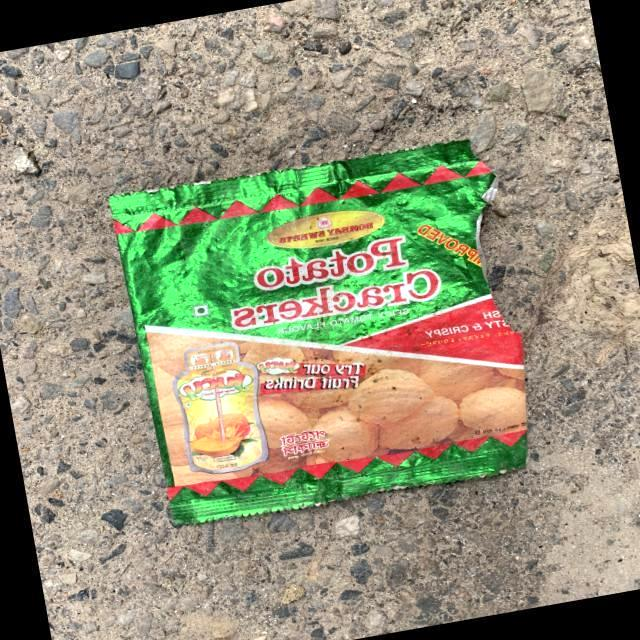packet: (100, 113, 550, 525)
